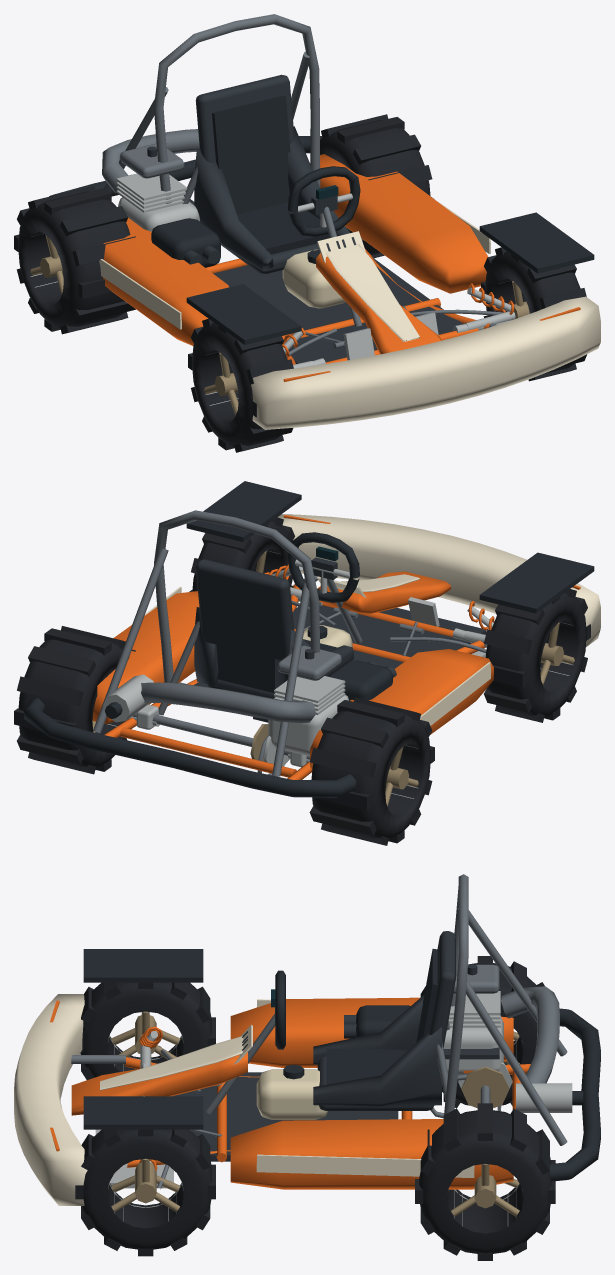
The model's file is oopi-lod.glb.
3 renders of one model, top to bottom at view 1: azimuth 30°, elevation 25°; view 2: azimuth 150°, elevation 25°; view 3: azimuth 270°, elevation 25°, orthographic. The views are drawn at different scales.
Parts seen in each view (by area): view 1: Slick vulcanised rubber (×4), Livery ivory (×2), paint, Satin composite, Moulded bumper polymer (×2), Seat fabric, Steel fasteners, Brushed alloy (×2), Fuel reservoir, Magnesium wheel centres (×2); view 2: Slick vulcanised rubber (×4), Moulded bumper polymer (×2), Satin composite, paint, Steel fasteners, Livery ivory (×2), Brushed alloy (×2), Magnesium wheel centres (×2), Fuel reservoir; view 3: Slick vulcanised rubber (×4), paint, Livery ivory (×2), Satin composite, Moulded bumper polymer (×2), Steel fasteners, Magnesium wheel centres (×4), Brushed alloy, Seat fabric, Fuel reservoir.
Part boxes in pixels (<box>): Slick vulcanised rubber (×4): <box>14,114,586,452</box>; Livery ivory (×2): <box>99,199,600,429</box>; paint: <box>103,154,514,364</box>; Satin composite: <box>147,74,463,363</box>; Moulded bumper polymer (×2): <box>49,136,594,344</box>; Seat fabric: <box>212,95,337,254</box>; Steel fasteners: <box>102,14,503,357</box>; Brushed alloy (×2): <box>116,173,515,368</box>; Fuel reservoir: <box>282,249,345,308</box>; Magnesium wheel centres (×2): <box>30,235,238,415</box>; Slick vulcanised rubber (×4): <box>14,517,590,845</box>; Moulded bumper polymer (×2): <box>24,481,594,797</box>; Satin composite: <box>194,559,486,722</box>; paint: <box>92,564,494,779</box>; Steel fasteners: <box>93,510,486,776</box>; Livery ivory (×2): <box>129,514,600,725</box>; Brushed alloy (×2): <box>103,566,493,767</box>; Magnesium wheel centres (×2): <box>385,622,574,806</box>; Fuel reservoir: <box>303,625,352,647</box>; Slick vulcanised rubber (×4): <box>75,956,555,1260</box>; paint: <box>71,997,530,1189</box>; Livery ivory (×2): <box>14,994,474,1205</box>; Satin composite: <box>115,931,499,1161</box>; Moulded bumper polymer (×2): <box>83,949,600,1181</box>; Steel fasteners: <box>157,874,567,1189</box>; Magnesium wheel centres (×4): <box>111,1011,519,1216</box>; Brushed alloy: <box>95,991,572,1188</box>; Seat fabric: <box>326,948,437,1084</box>; Fuel reservoir: <box>256,1069,327,1119</box>.
Bounding box in the file's own units: 1.96 × 1.42 × 2.7.
